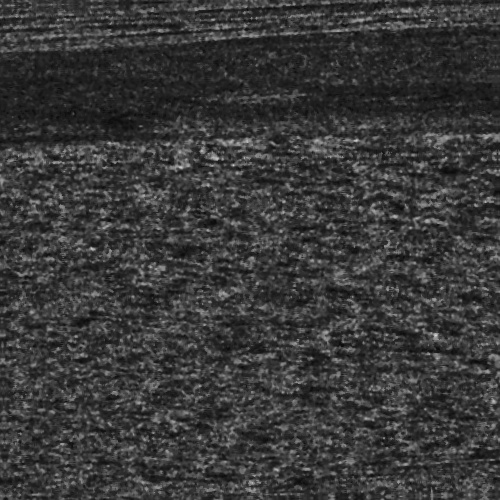object: (350, 17, 403, 22)
shadow: (377, 17, 427, 22)
